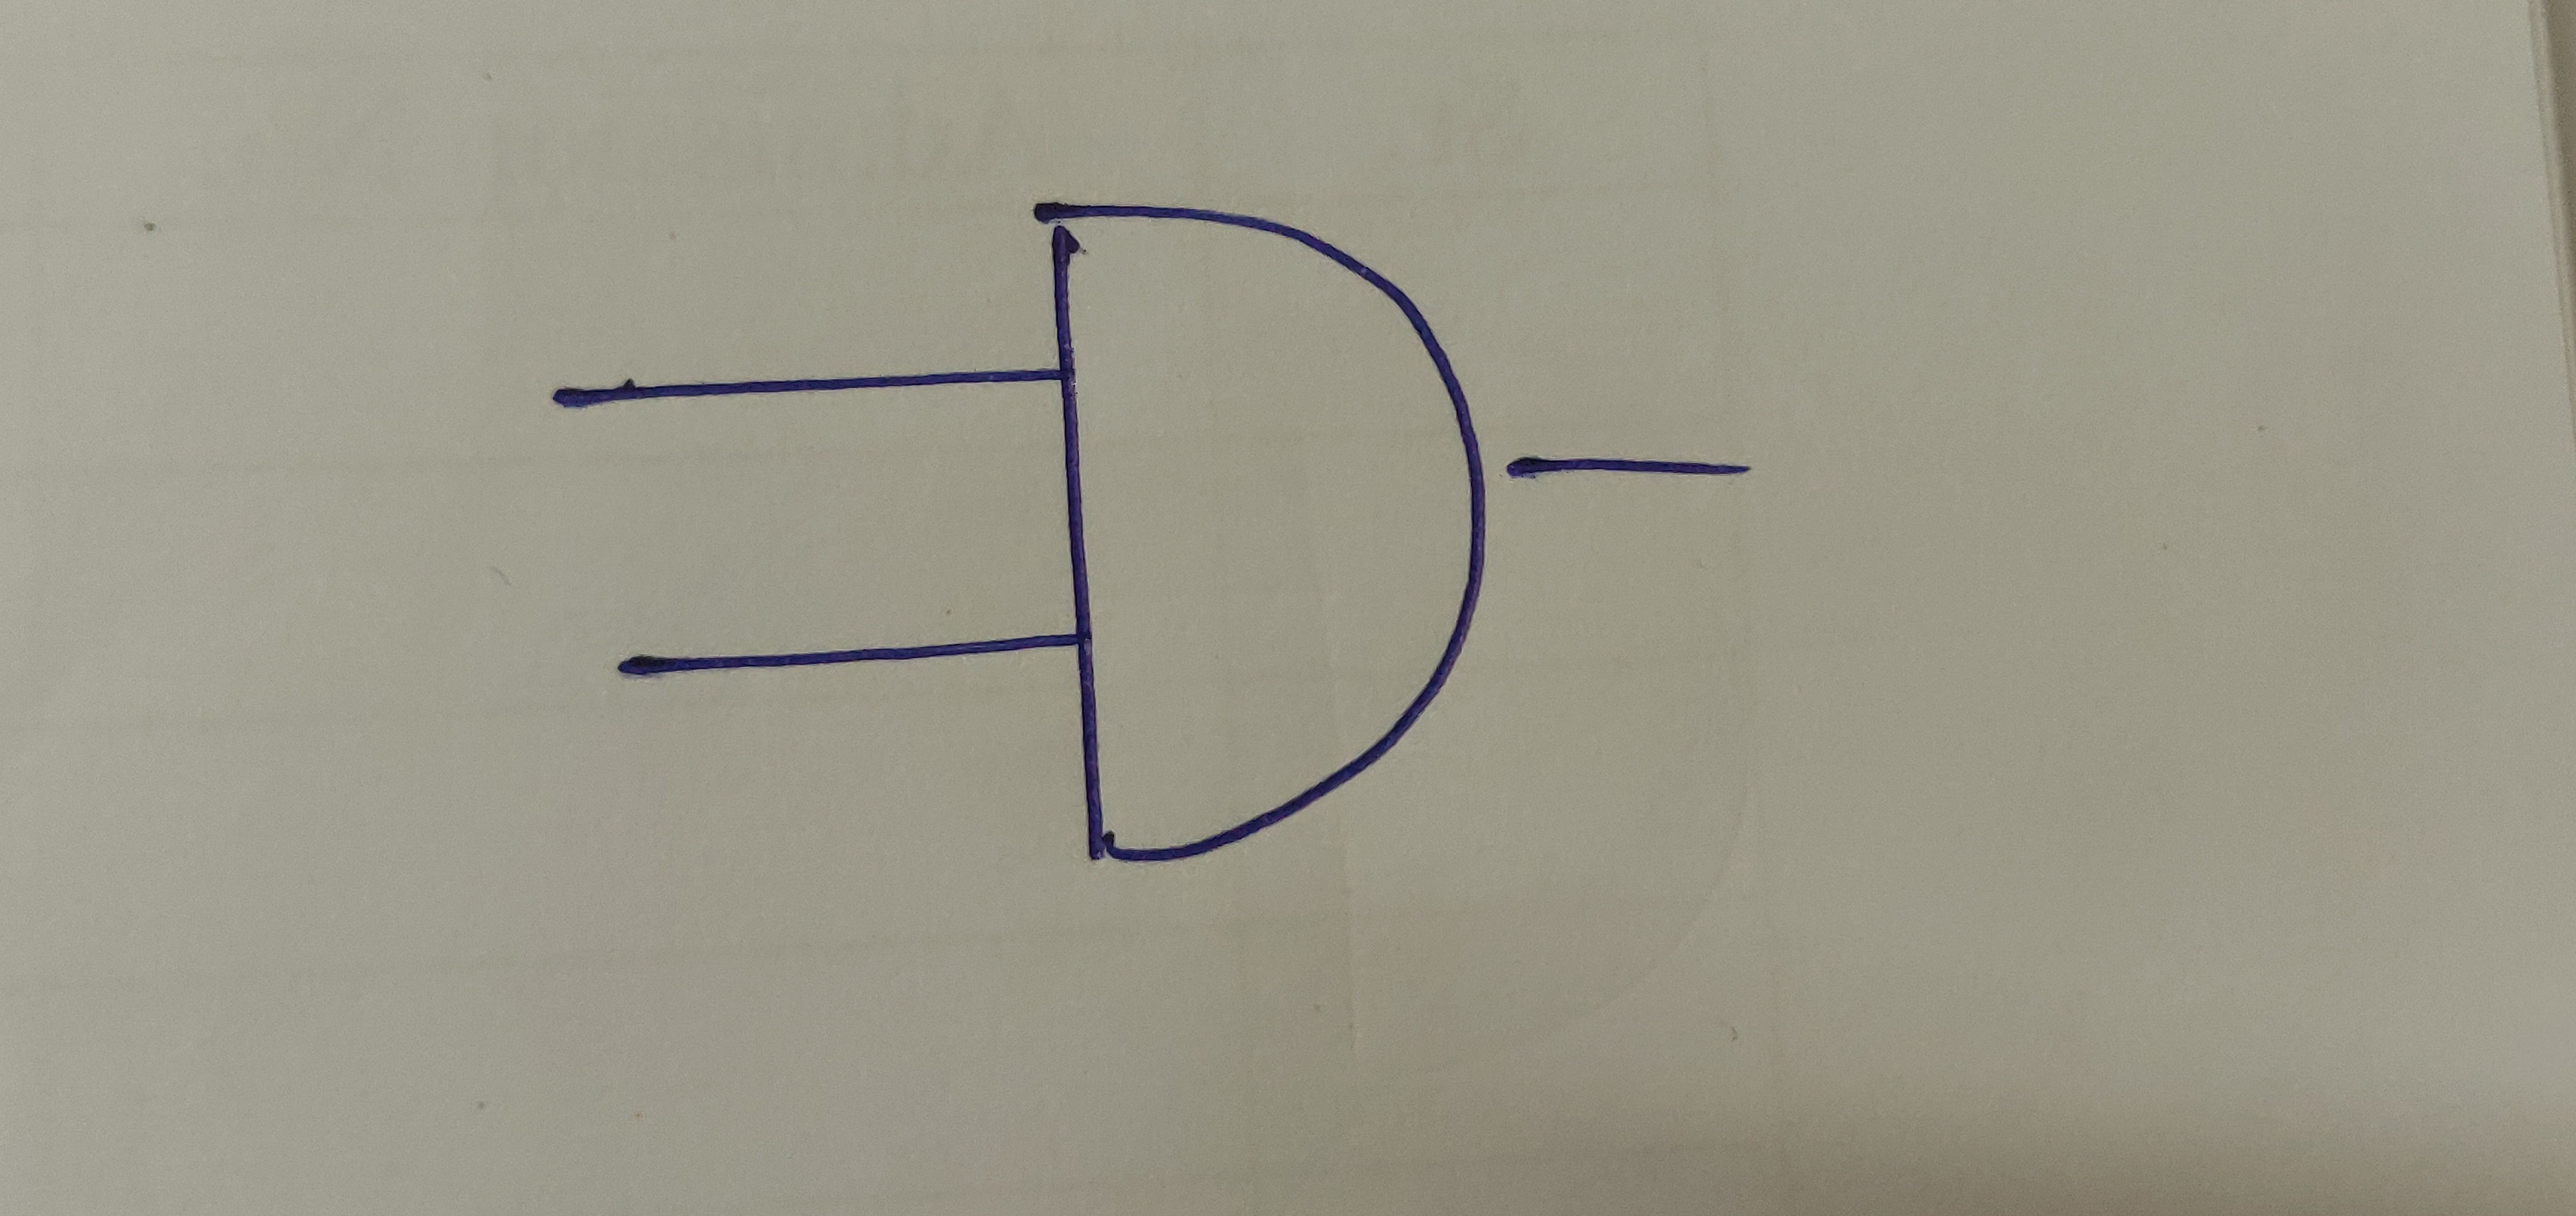and: (1028, 194, 1492, 868)
